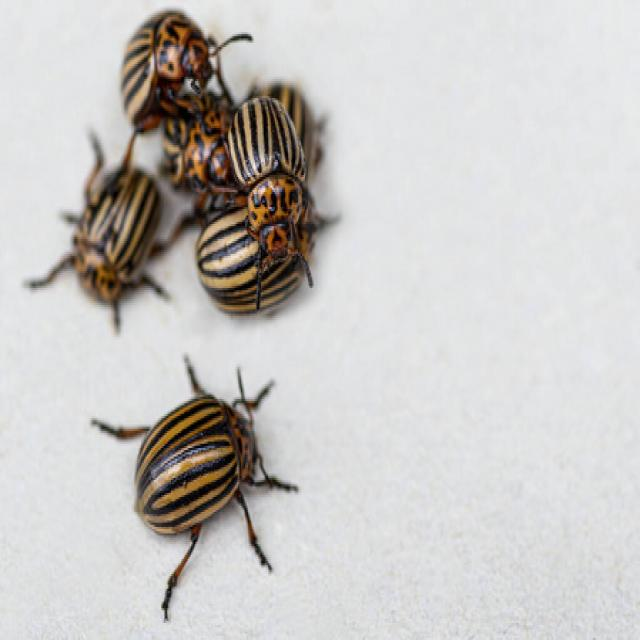ShuCaiHuaBanChong-Grown-: (122, 398, 283, 556), (56, 151, 172, 308), (112, 10, 240, 134), (229, 94, 320, 256)
